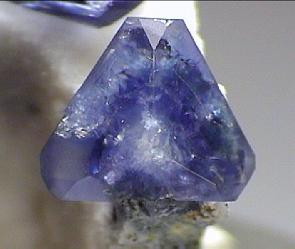benitoite: (41, 18, 256, 201)
